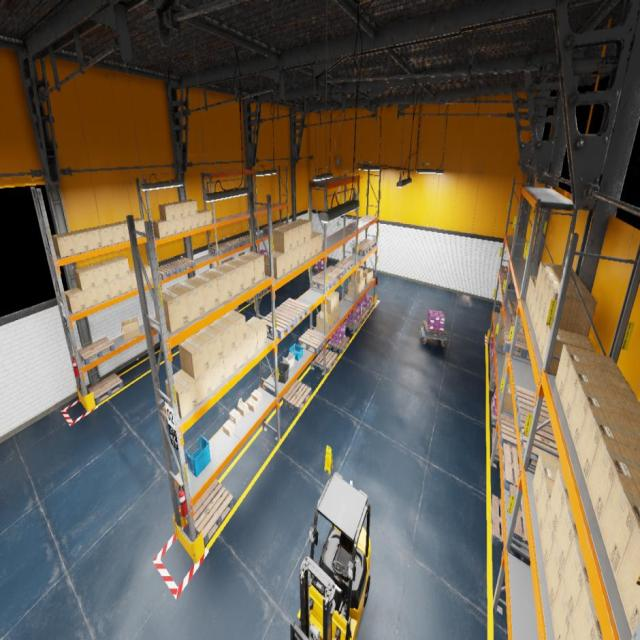box: (576, 405, 640, 484), (568, 381, 640, 451), (561, 361, 639, 423), (587, 436, 640, 526), (600, 474, 640, 580), (555, 344, 624, 399), (616, 523, 640, 636), (544, 284, 596, 336), (542, 326, 596, 376), (562, 537, 590, 624), (555, 499, 579, 575), (571, 582, 603, 639), (542, 276, 588, 314), (154, 286, 189, 334), (538, 268, 581, 305), (166, 370, 198, 419), (533, 453, 562, 507), (172, 278, 205, 323), (549, 468, 570, 536), (178, 334, 209, 380), (535, 262, 575, 296), (189, 272, 219, 314), (545, 538, 562, 612), (194, 326, 223, 368), (552, 578, 570, 640), (204, 266, 232, 304), (208, 317, 235, 356), (537, 477, 554, 537), (218, 261, 244, 296), (222, 309, 246, 346), (541, 505, 554, 571), (230, 256, 254, 290), (241, 251, 265, 283), (246, 317, 267, 350), (51, 232, 76, 258), (264, 250, 286, 278), (195, 369, 212, 404), (64, 287, 86, 314), (86, 262, 108, 286), (67, 230, 89, 254), (74, 266, 95, 291), (272, 227, 292, 253), (279, 224, 299, 249), (286, 221, 306, 245), (210, 358, 224, 392), (223, 347, 237, 380), (81, 228, 102, 250), (94, 224, 114, 247), (121, 317, 140, 341), (111, 256, 130, 278), (100, 260, 119, 282), (106, 222, 125, 244), (294, 218, 311, 242), (235, 338, 248, 369), (246, 324, 257, 360), (539, 316, 548, 357), (83, 286, 99, 308), (535, 306, 544, 345), (526, 276, 537, 306), (316, 311, 331, 333), (504, 383, 514, 413), (532, 298, 540, 334), (153, 219, 168, 238), (96, 283, 110, 303), (159, 203, 175, 220), (321, 295, 335, 314), (108, 279, 122, 298), (530, 290, 538, 323), (528, 282, 536, 314), (176, 200, 191, 217), (168, 202, 183, 219), (120, 274, 132, 294), (183, 199, 198, 215), (134, 218, 146, 237), (312, 232, 322, 254), (142, 264, 152, 285), (118, 221, 129, 240), (223, 420, 235, 437), (348, 280, 359, 298), (229, 408, 241, 424), (238, 397, 248, 416), (130, 268, 138, 290), (351, 268, 363, 282), (285, 250, 292, 274), (200, 210, 212, 224), (504, 357, 510, 384), (292, 246, 299, 269), (247, 398, 258, 412), (299, 242, 306, 264), (167, 219, 176, 236), (331, 292, 339, 310), (175, 217, 184, 233), (363, 269, 372, 284), (353, 280, 362, 295), (252, 390, 262, 402), (183, 216, 191, 231), (190, 214, 198, 229), (498, 326, 504, 345), (566, 624, 573, 640), (198, 211, 205, 227), (312, 235, 317, 257), (306, 240, 311, 260), (497, 321, 504, 335), (335, 306, 339, 324), (331, 311, 335, 328), (502, 374, 505, 396), (500, 366, 504, 382), (504, 353, 507, 372), (498, 305, 502, 317), (362, 277, 365, 292), (500, 314, 504, 325), (222, 260, 230, 264), (239, 253, 246, 256), (498, 314, 500, 324)
forklift: (297, 471, 370, 639)
pallets: (186, 479, 234, 545), (491, 494, 530, 566), (518, 414, 560, 468), (502, 442, 534, 491), (515, 386, 552, 427), (509, 484, 528, 547), (88, 373, 123, 405), (78, 337, 115, 366), (262, 308, 296, 339), (283, 380, 311, 413), (276, 298, 309, 324), (504, 328, 530, 360), (298, 329, 326, 355), (499, 414, 518, 451), (314, 348, 338, 372), (313, 273, 337, 292), (170, 258, 196, 273), (505, 313, 524, 333), (328, 336, 349, 354), (158, 263, 180, 280), (320, 266, 344, 281), (423, 322, 445, 338), (507, 300, 522, 323), (334, 258, 354, 274), (344, 318, 363, 332), (492, 427, 499, 462), (501, 273, 515, 290), (210, 244, 231, 255), (352, 243, 371, 255), (222, 239, 242, 250), (359, 239, 376, 250), (246, 292, 261, 304), (491, 398, 497, 426), (500, 265, 511, 278), (262, 225, 279, 233), (490, 366, 496, 388), (359, 309, 368, 323), (238, 235, 250, 245), (366, 301, 374, 314), (313, 265, 324, 273), (260, 286, 270, 294), (489, 341, 493, 356), (272, 222, 287, 226), (489, 352, 492, 370), (232, 306, 238, 312)
